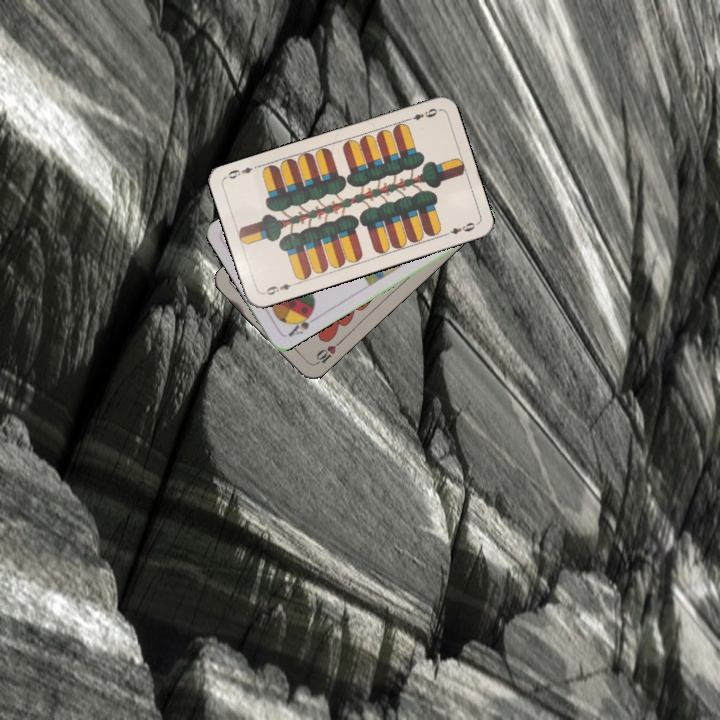E9: (402, 104, 440, 124), (259, 279, 293, 298)
H10: (309, 337, 343, 368)
SA: (284, 308, 319, 339)
